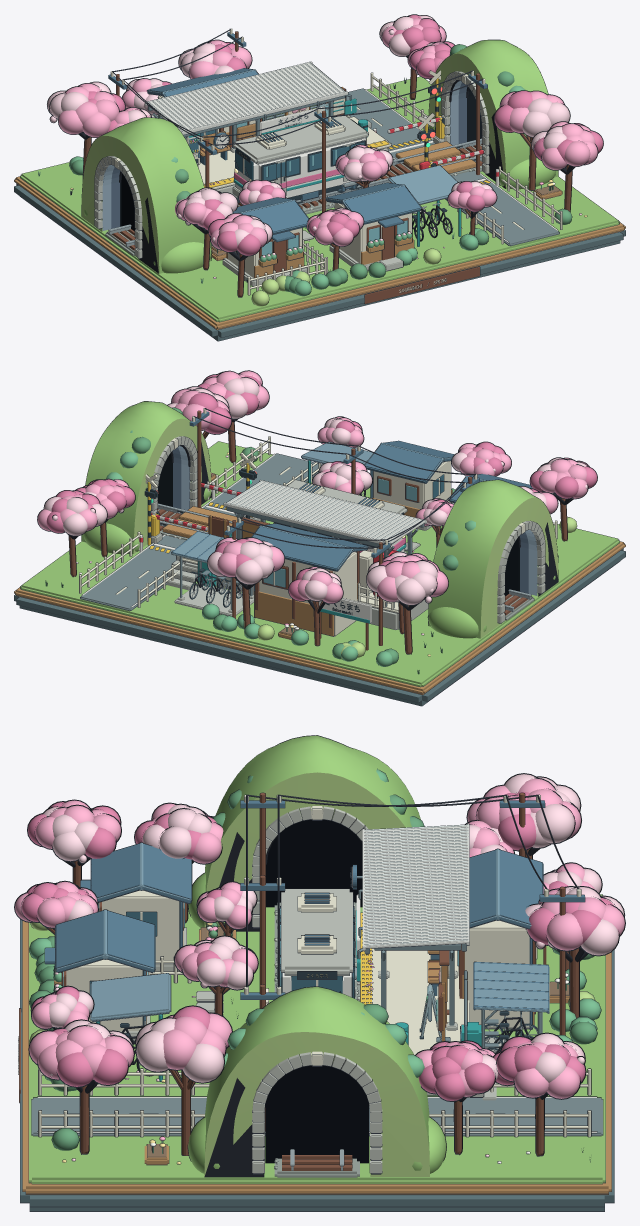
Rendered from Sakuramachi_Unity.fbx.
3 views of the same model, one above another, from view 1: azimuth 30°, elevation 25°; view 2: azimuth 150°, elevation 25°; view 3: azimuth 270°, elevation 25° (orthographic). The views are drawn at different scales.
Parts seen in each view (by area): view 1: Base_Mesh, Terrain_Mesh, Houses_Mesh, Platform_Canopy_Mesh, Train_Visual, Road_Mesh, Bushes_Mesh, Sakura_00_Mesh, NPR_Outline_Base_Mesh, Sakura_V2_01_Mesh, Sakura_08_Mesh, Fence_Mesh (+33 smaller); view 2: Base_Mesh, Terrain_Mesh, Station_Building_Mesh, Platform_Canopy_Mesh, Road_Mesh, Houses_Mesh, Bushes_Mesh, Sakura_00_Mesh, NPR_Outline_Base_Mesh, Sakura_02_Mesh, Stair_BicycleShelter_Mesh, Sakura_09_Mesh (+32 smaller); view 3: Base_Mesh, Terrain_Mesh, Houses_Mesh, Platform_Canopy_Mesh, Road_Mesh, Station_Building_Mesh, Tunnel_Dark_Right_DepthMask, Train_Visual, Bushes_Mesh, Platform_Mesh, Sakura_V2_01_Mesh, Tunnel_Dark_Left_DepthMask (+36 smaller).
Part boxes in pixels (x1=…): Base_Mesh: x1=14, y1=76, x2=625, y2=340; Terrain_Mesh: x1=81, y1=40, x2=558, y2=273; Houses_Mesh: x1=223, y1=183, x2=421, y2=285; Platform_Canopy_Mesh: x1=145, y1=61, x2=347, y2=152; Train_Visual: x1=232, y1=115, x2=368, y2=202; Road_Mesh: x1=303, y1=88, x2=559, y2=245; Bushes_Mesh: x1=38, y1=44, x2=586, y2=306; Sakura_00_Mesh: x1=47, y1=82, x2=124, y2=173; NPR_Outline_Base_Mesh: x1=14, y1=76, x2=625, y2=341; Sakura_V2_01_Mesh: x1=494, y1=91, x2=569, y2=190; Sakura_08_Mesh: x1=531, y1=122, x2=603, y2=211; Fence_Mesh: x1=248, y1=73, x2=562, y2=294; Base_Mesh: x1=14, y1=441, x2=625, y2=705; Terrain_Mesh: x1=81, y1=401, x2=558, y2=638; Station_Building_Mesh: x1=252, y1=523, x2=368, y2=636; Platform_Canopy_Mesh: x1=224, y1=480, x2=426, y2=603; Road_Mesh: x1=80, y1=453, x2=419, y2=610; Houses_Mesh: x1=365, y1=441, x2=533, y2=530; Bushes_Mesh: x1=45, y1=407, x2=576, y2=674; Sakura_00_Mesh: x1=366, y1=555, x2=448, y2=653; NPR_Outline_Base_Mesh: x1=14, y1=441, x2=625, y2=706; Sakura_02_Mesh: x1=207, y1=537, x2=284, y2=628; Stair_BicycleShelter_Mesh: x1=171, y1=531, x2=253, y2=616; Sakura_09_Mesh: x1=37, y1=490, x2=106, y2=576; Base_Mesh: x1=18, y1=894, x2=614, y2=1211; Terrain_Mesh: x1=188, y1=735, x2=446, y2=1176; Houses_Mesh: x1=45, y1=842, x2=191, y2=1040; Platform_Canopy_Mesh: x1=362, y1=823, x2=469, y2=1030; Road_Mesh: x1=31, y1=991, x2=602, y2=1135; Station_Building_Mesh: x1=457, y1=849, x2=543, y2=1029; Tunnel_Dark_Right_DepthMask: x1=265, y1=1065, x2=368, y2=1163; Train_Visual: x1=277, y1=889, x2=356, y2=997; Bushes_Mesh: x1=29, y1=769, x2=601, y2=1164; Platform_Mesh: x1=360, y1=913, x2=496, y2=1100; Sakura_V2_01_Mesh: x1=136, y1=1006, x2=231, y2=1155; Tunnel_Dark_Left_DepthMask: x1=266, y1=819, x2=362, y2=907.
Bounding box in the file's own units: 1401 × 466 × 1237.
